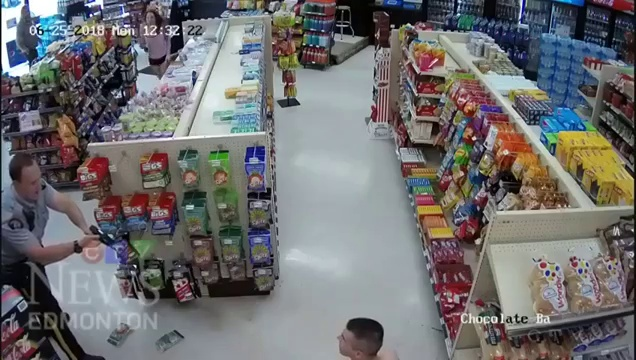face: (20, 169, 44, 201), (336, 324, 359, 354)
